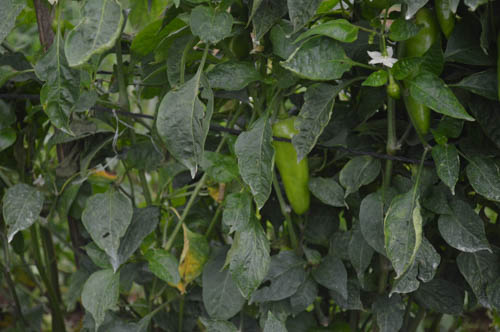ChiliPepper: (402, 12, 441, 134), (274, 115, 313, 216)
